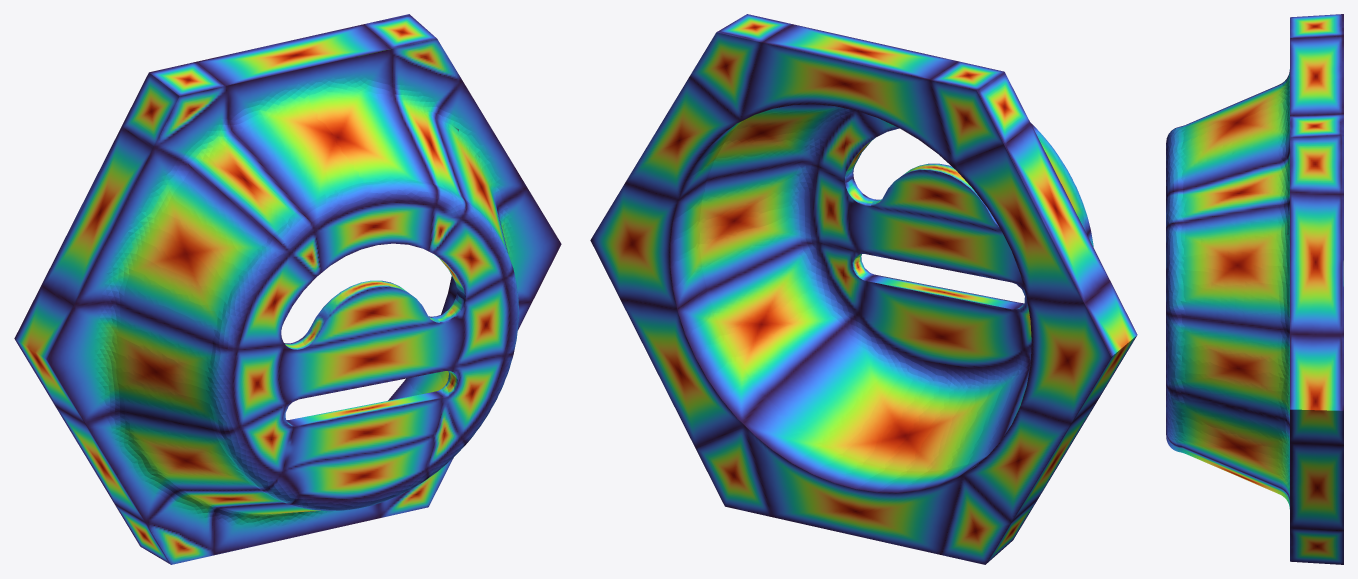
Rendered from gen3.glb.
3 views of the same model, side by side, from view 1: azimuth 30°, elevation 25°; view 2: azimuth 150°, elevation 25°; view 3: azimuth 270°, elevation 25° (orthographic). The views are drawn at different scales.
Visible parts, largest first — view 1: Node; view 2: Node; view 3: Node.
Boxes of the visible parts, <box> form: Node: <box>14,14,561,564</box>; Node: <box>590,14,1137,564</box>; Node: <box>1166,14,1343,564</box>.
Size of the model in its own units: 103 by 89.79 by 33.
1 material, 1 textured.
